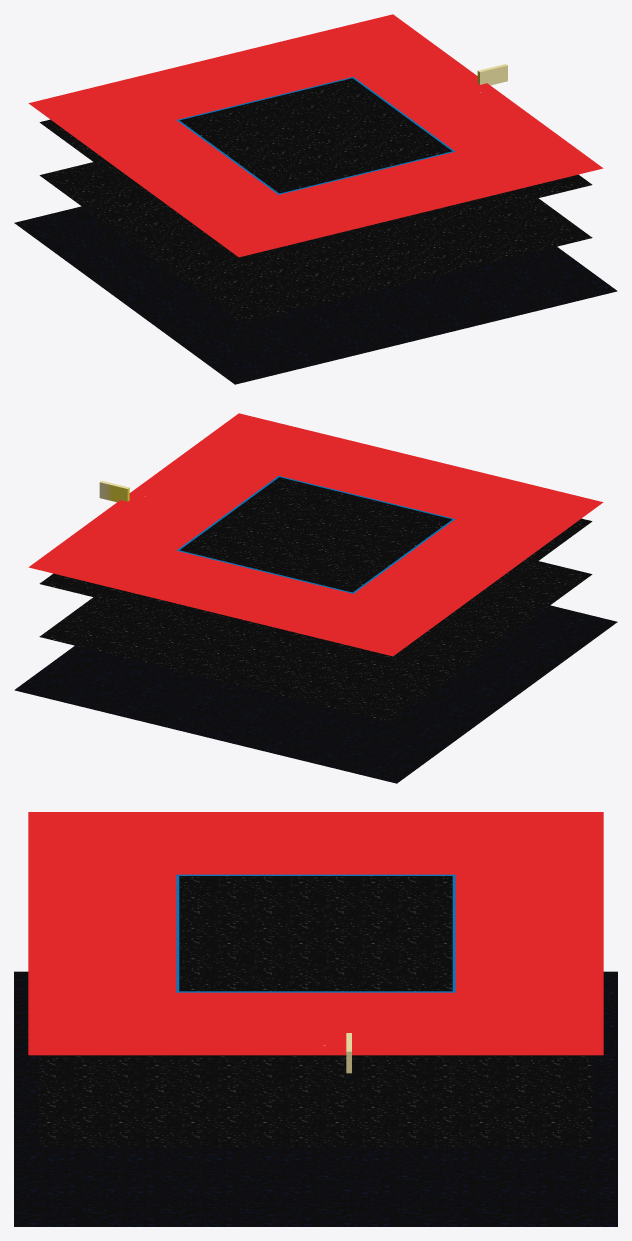
Rendered from ffa.glb.
3 views of the same model, one above another, from view 1: azimuth 30°, elevation 25°; view 2: azimuth 150°, elevation 25°; view 3: azimuth 270°, elevation 25° (orthographic). The views are drawn at different scales.
Visible parts, largest first — view 1: edge.001, bg.003, bg.001, bg.002, edge, Cube; view 2: edge.001, bg.003, bg.001, bg.002, edge, Cube; view 3: edge.001, bg.003, bg.002, bg.001, edge.
Boxes of the visible parts, bbox=[...] form: edge.001: bbox=[28, 14, 603, 257]; bg.003: bbox=[14, 206, 617, 384]; bg.001: bbox=[39, 162, 592, 323]; bg.002: bbox=[39, 78, 592, 270]; edge: bbox=[176, 77, 454, 194]; Cube: bbox=[477, 64, 507, 85]; edge.001: bbox=[28, 413, 603, 656]; bg.003: bbox=[14, 605, 617, 783]; bg.001: bbox=[39, 561, 592, 722]; bg.002: bbox=[39, 477, 592, 669]; edge: bbox=[177, 476, 455, 593]; Cube: bbox=[99, 481, 129, 502]; edge.001: bbox=[28, 812, 603, 1055]; bg.003: bbox=[14, 971, 617, 1226]; bg.002: bbox=[39, 876, 592, 1074]; bg.001: bbox=[39, 1075, 592, 1147]; edge: bbox=[176, 874, 455, 992].
Size of what is drawn, in the model's own units: 2847 by 924 by 2763.
5 materials, 5 textured.
